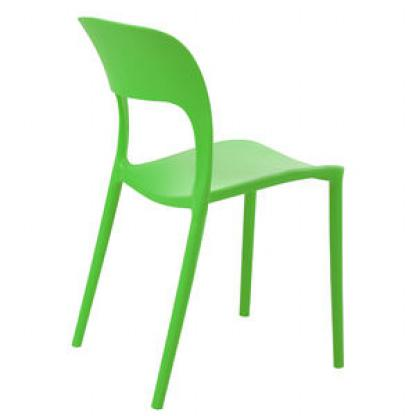chair: (74, 10, 352, 416)
